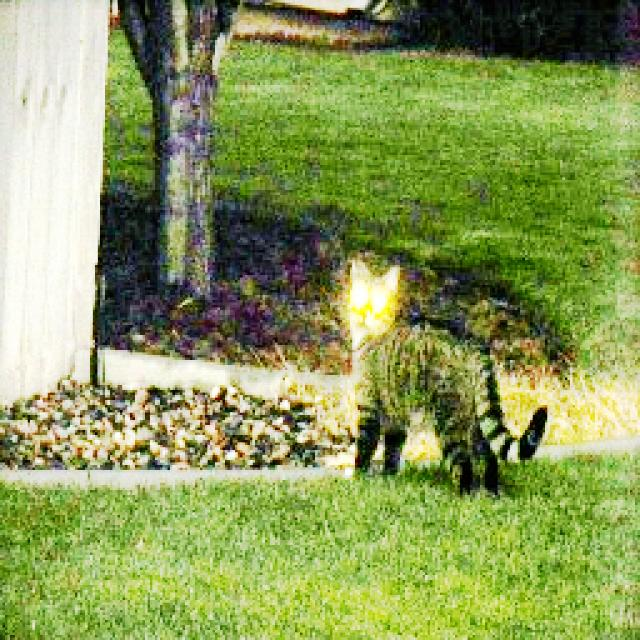cat: (343, 258, 551, 495)
